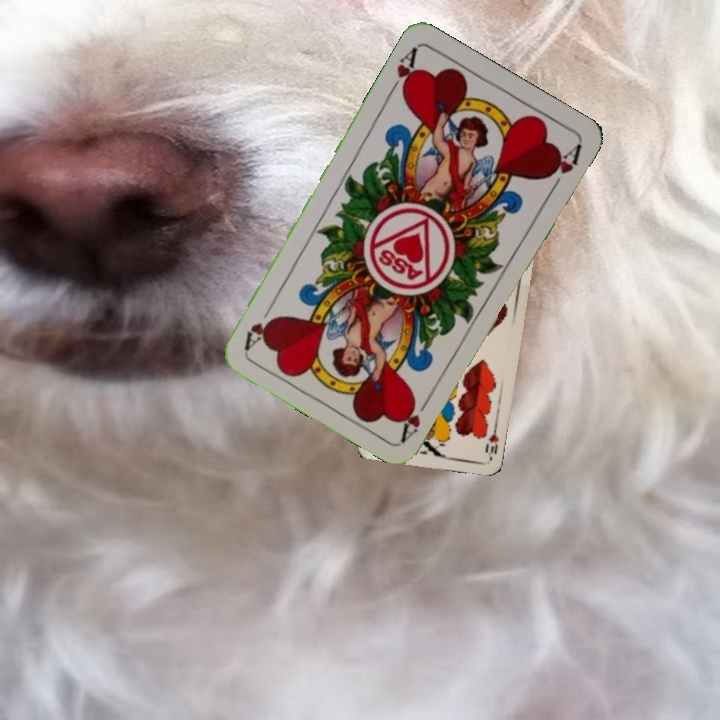H10: (481, 422, 501, 462)
HA: (384, 43, 421, 99), (397, 389, 435, 443)
